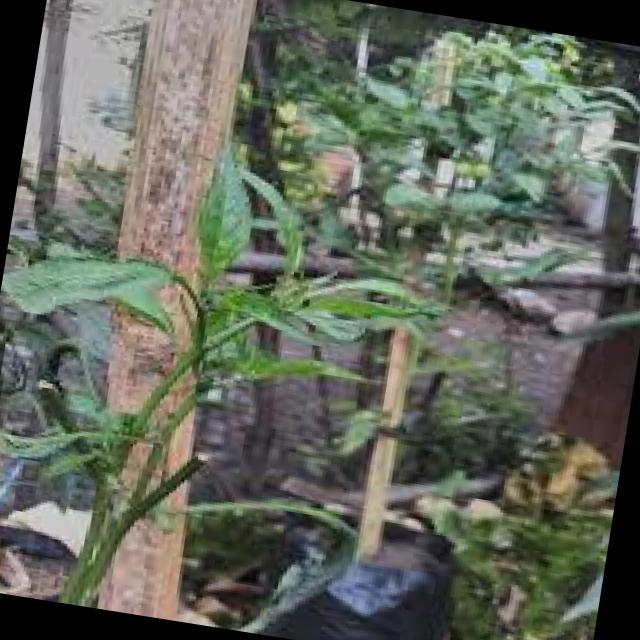Chilli_Leaf_Curl: (0, 0, 640, 640), (268, 0, 640, 326), (391, 408, 621, 640), (0, 234, 188, 337)
